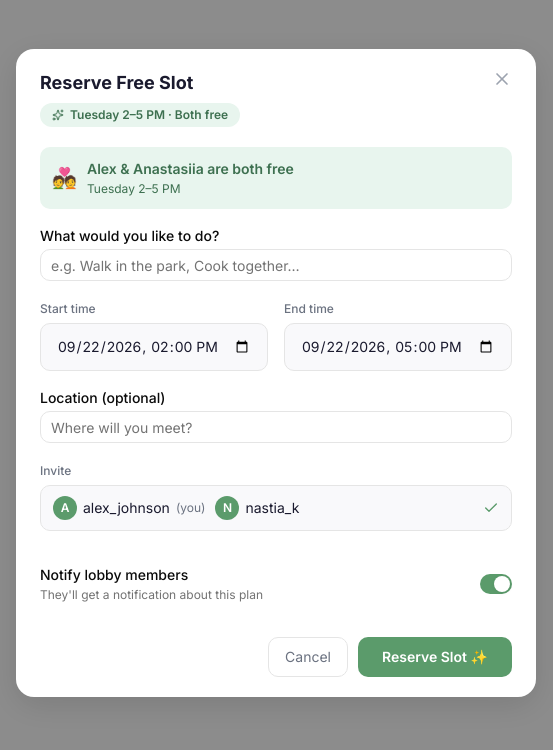
Test: ReserveSlotModal — mode A (full slot, lobby known) › shows an inline error when the API rejects the request
Type "Movie night" into the field labelled "What would you like to do?" at (276,265), box [40, 249, 512, 281]
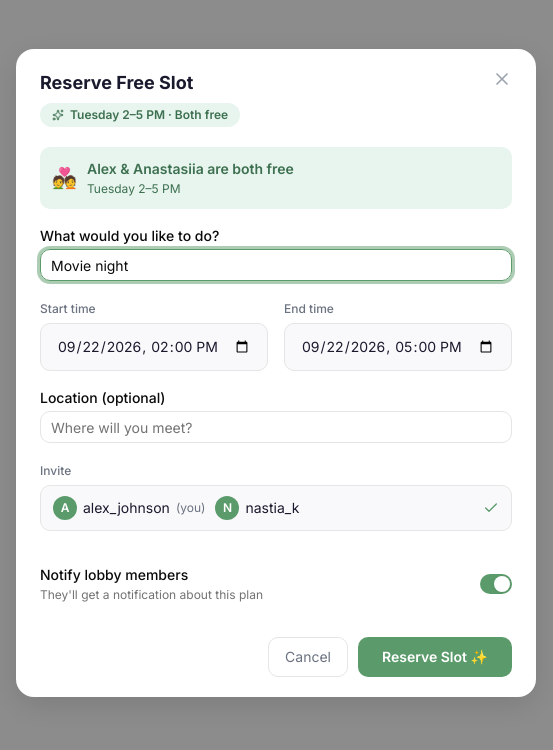
Click the button "Reserve Slot ✨" at (435,657), box [358, 637, 512, 677]
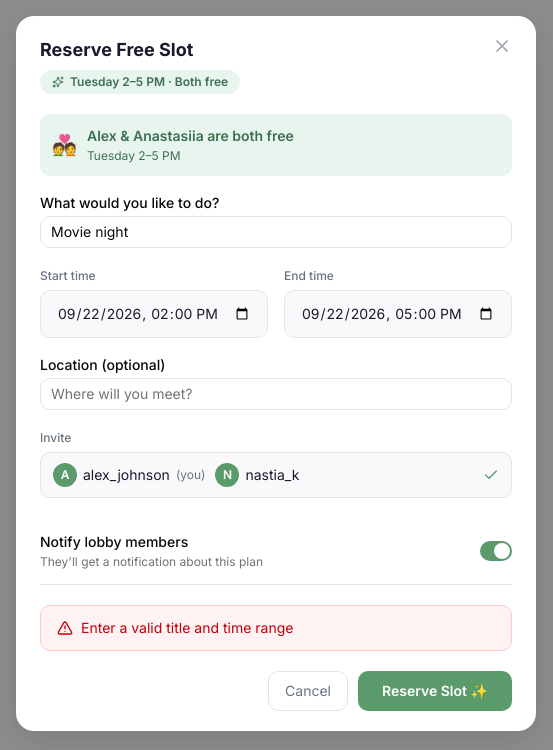
Expected: the message shows "valid title and time range", [81, 618, 293, 636]
